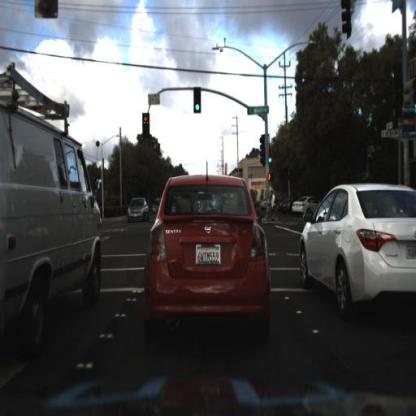biker: (265, 188, 281, 224)
car: (1, 65, 102, 346), (140, 174, 276, 342), (298, 176, 416, 320), (294, 194, 330, 218), (125, 195, 149, 226)
trafficLight: (194, 86, 204, 113), (269, 147, 277, 168)
trafficLight-RedLeft: (143, 113, 151, 141)
truck: (2, 74, 99, 366)
